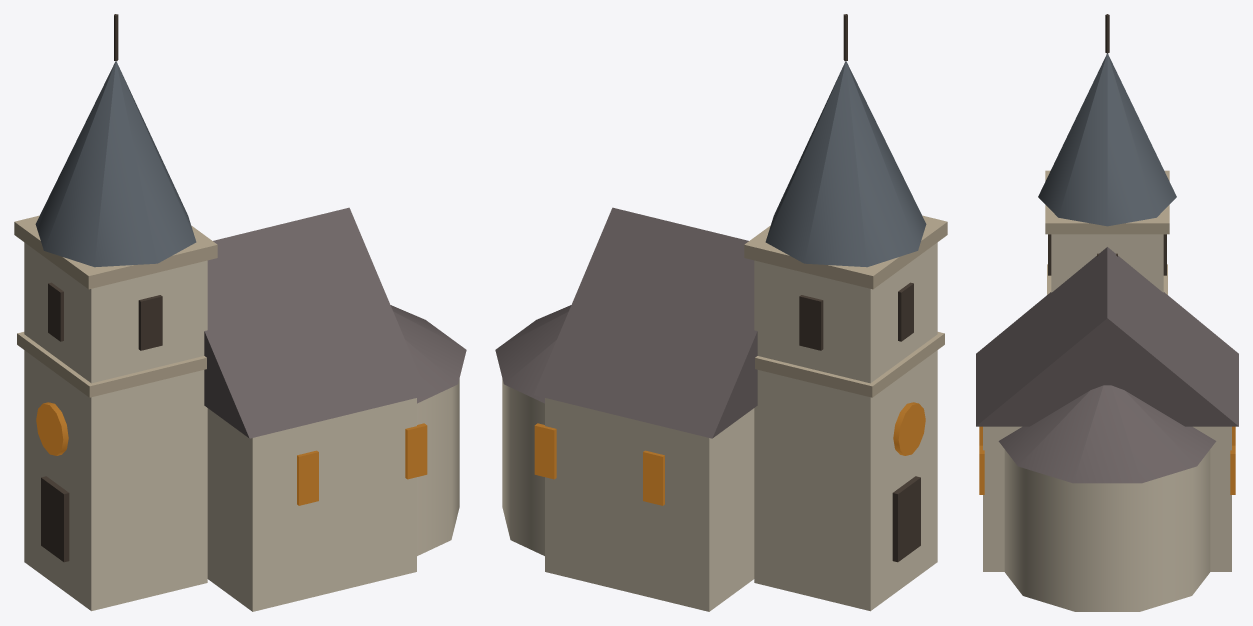
File: eglise-3.glb
3 views of the same model, side by side, from view 1: azimuth 30°, elevation 25°; view 2: azimuth 150°, elevation 25°; view 3: azimuth 270°, elevation 25° (orthographic). The views are drawn at different scales.
Parts seen in each view (by area): view 1: Église; view 2: Église; view 3: Église.
Boxes of the visible parts, <box> form: Église: <box>14,14,466,611</box>; Église: <box>495,14,947,611</box>; Église: <box>976,14,1238,611</box>.
Size of the model in its own units: 22.26 by 29.48 by 15.1.
